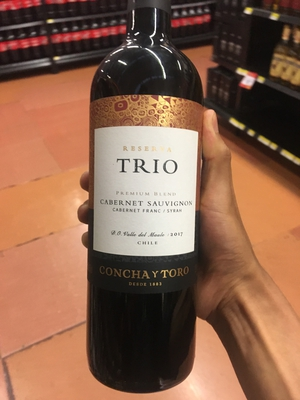trio cabernet sauvignon: (76, 6, 221, 400)
